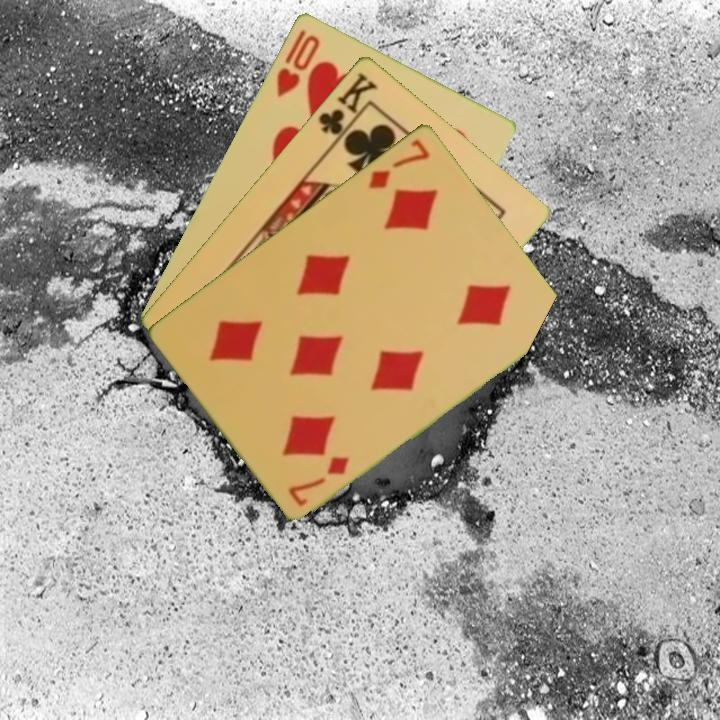10h: (272, 30, 323, 100)
7d: (285, 452, 353, 509), (364, 135, 433, 191)
Kc: (314, 68, 381, 147)
